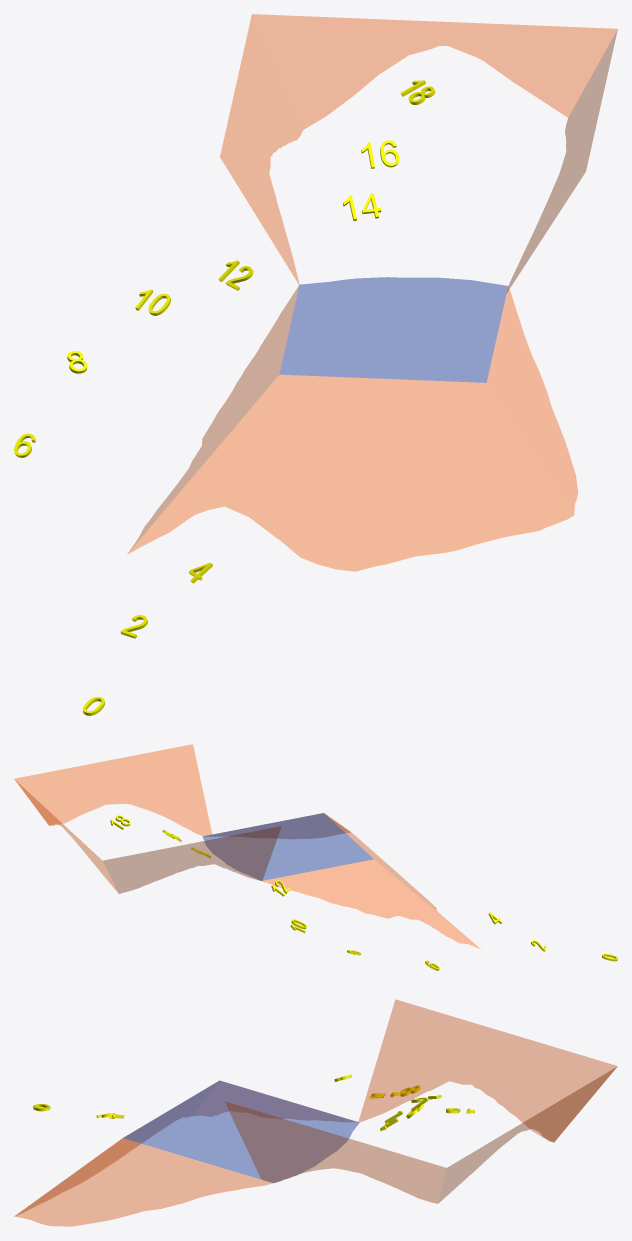
Rendered from curva13b.gltf.
3 views of the same model, one above another, from view 1: azimuth 30°, elevation 25°; view 2: azimuth 150°, elevation 25°; view 3: azimuth 270°, elevation 25° (orthographic). The views are drawn at different scales.
Size of the model in its own units: 1311 by 490 by 1084.
